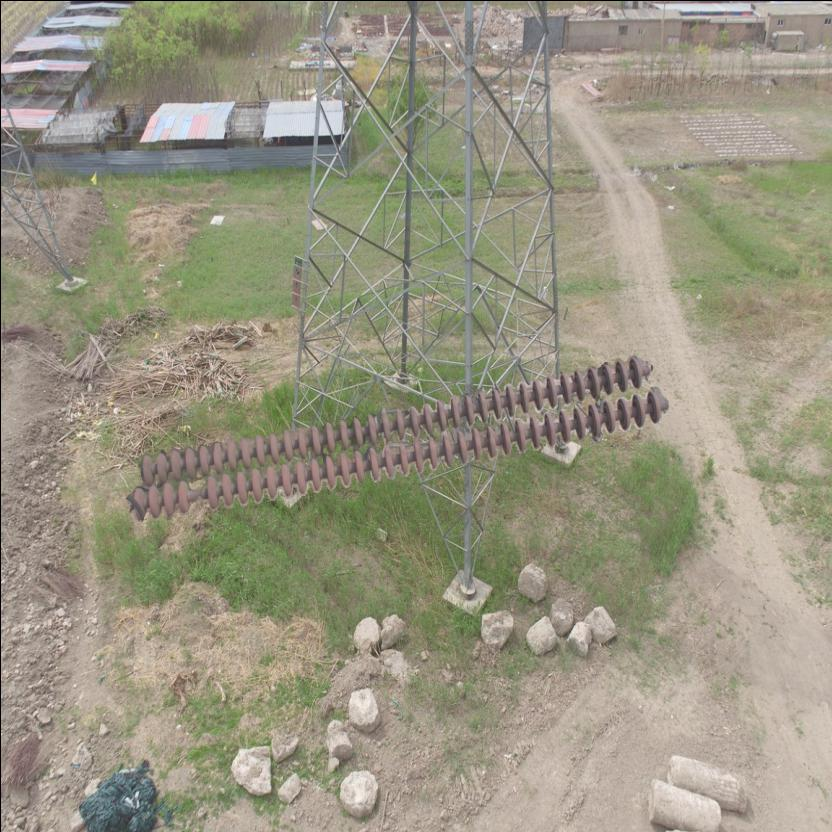defect: (174, 470, 220, 512)
